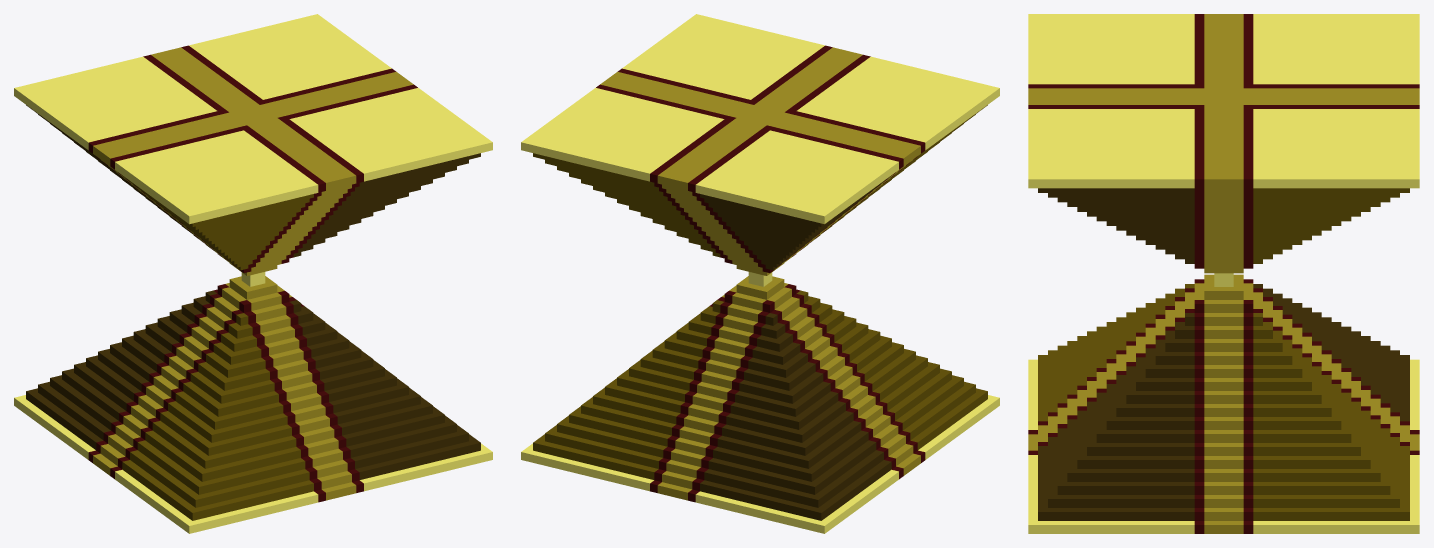
The model's file is untitled copie.dae.
The picture shows the model from 3 angles, left to right: view 1: azimuth 30°, elevation 25°; view 2: azimuth 150°, elevation 25°; view 3: azimuth 270°, elevation 25°; orthographic projection. The views are drawn at different scales.
Visible parts, largest first — view 1: objMesh; view 2: objMesh; view 3: objMesh.
Boxes of the visible parts, left/top/right/bottom form: objMesh: left=14, top=14, right=492, bottom=533; objMesh: left=521, top=14, right=999, bottom=533; objMesh: left=1028, top=14, right=1419, bottom=533.
Bounding box in the file's own units: 512 × 512 × 512.
1 material, 1 textured.
